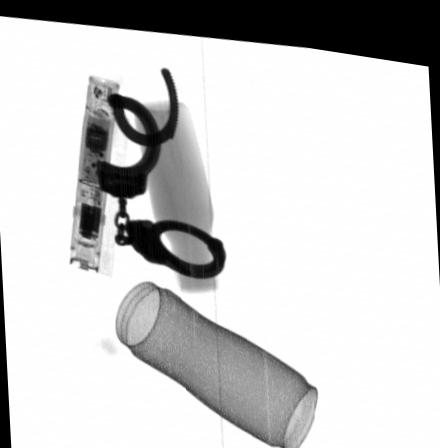Baton: (68, 70, 121, 272)
HandCuffs: (95, 59, 227, 274)
